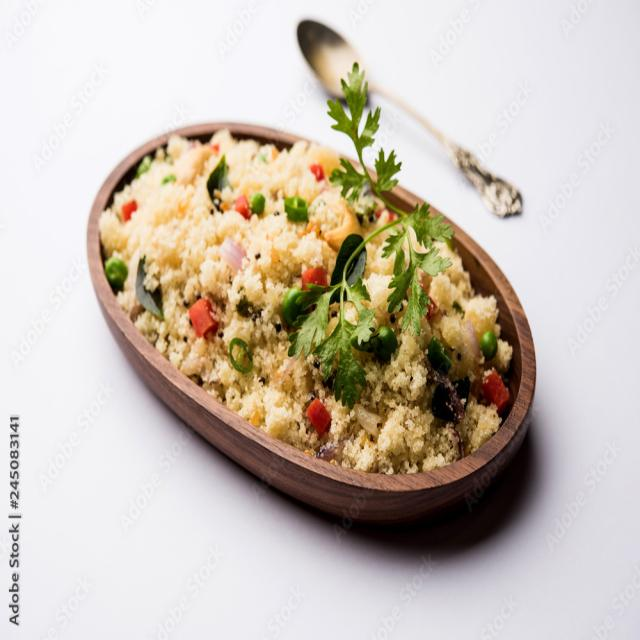UPMA: (99, 130, 510, 473)
